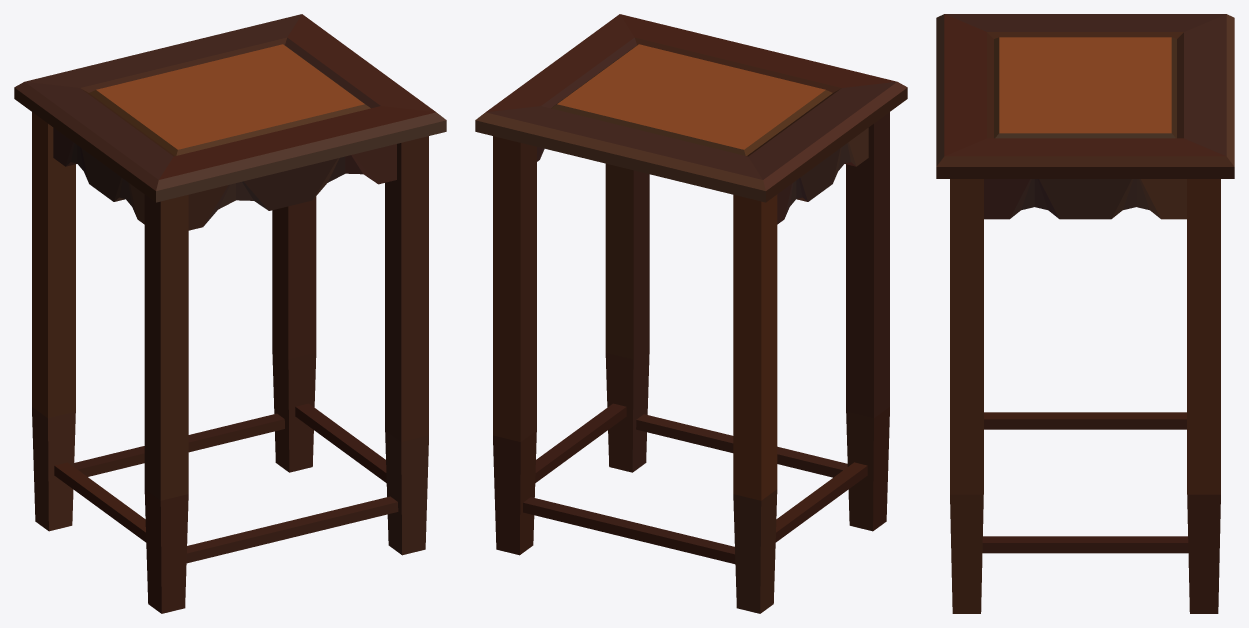
File: Furniture_EndTableF.fbx
The picture shows the model from 3 angles, left to right: view 1: azimuth 30°, elevation 25°; view 2: azimuth 150°, elevation 25°; view 3: azimuth 270°, elevation 25°; orthographic projection. The views are drawn at different scales.
Visible parts, largest first — view 1: Furniture_EndTableF; view 2: Furniture_EndTableF; view 3: Furniture_EndTableF.
Boxes of the visible parts, bbox=[...] form: Furniture_EndTableF: bbox=[14, 14, 446, 613]; Furniture_EndTableF: bbox=[475, 14, 907, 613]; Furniture_EndTableF: bbox=[936, 14, 1234, 613].
Bounding box in the file's own units: 68.52 × 98.77 × 57.9.
